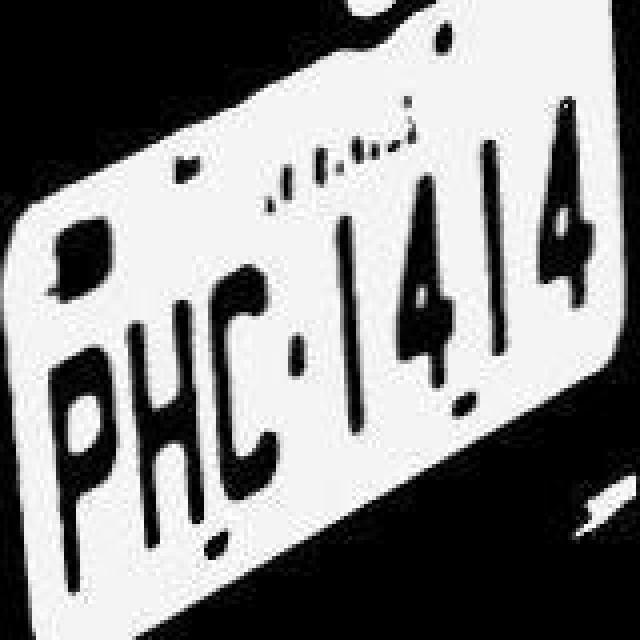1: (474, 114, 514, 398), (330, 206, 370, 474)
4: (520, 66, 596, 350), (390, 166, 454, 402)
C: (206, 240, 286, 504)
H: (128, 270, 204, 554)
P: (46, 320, 126, 608)
